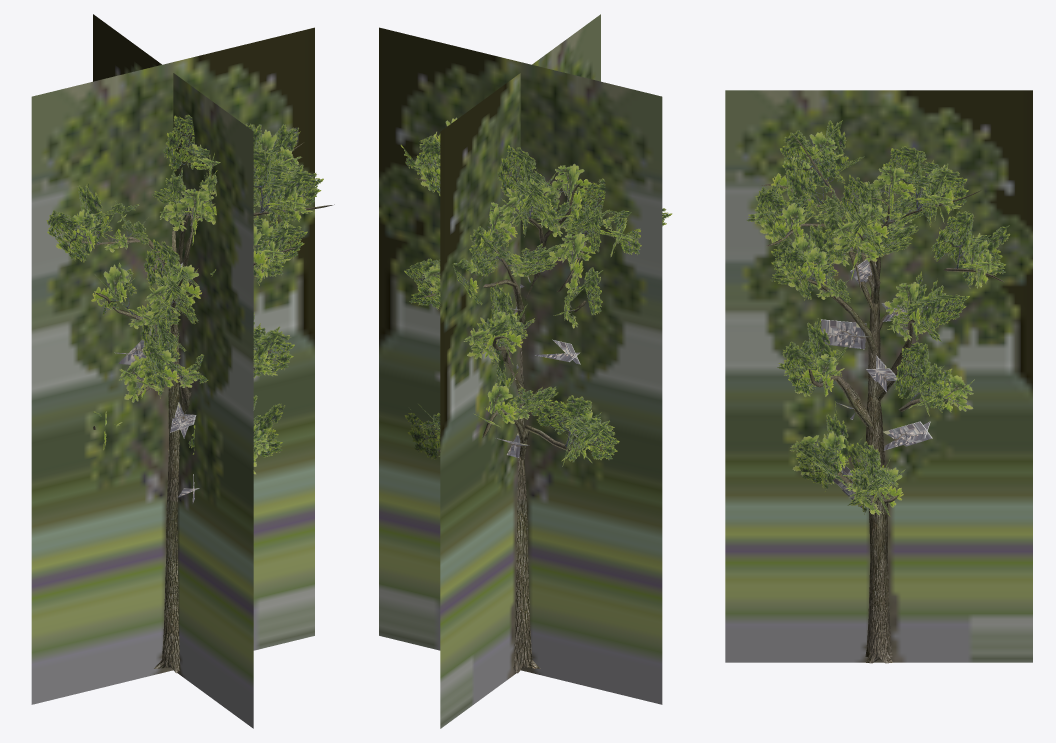
File: Tree-Oak0A.fbx
3 views of the same model, side by side, from view 1: azimuth 30°, elevation 25°; view 2: azimuth 150°, elevation 25°; view 3: azimuth 270°, elevation 25° (orthographic). The views are drawn at different scales.
Parts seen in each view (by area): view 1: Billboard-Oak0A, Tree-Oak0A_LOD0; view 2: Billboard-Oak0A, Tree-Oak0A_LOD0; view 3: Billboard-Oak0A, Tree-Oak0A_LOD0.
Boxes of the visible parts, left/top/right/bottom form: Billboard-Oak0A: left=31, top=14, right=314, bottom=728; Tree-Oak0A_LOD0: left=46, top=114, right=334, bottom=673; Billboard-Oak0A: left=379, top=14, right=662, bottom=728; Tree-Oak0A_LOD0: left=400, top=117, right=672, bottom=673; Billboard-Oak0A: left=725, top=90, right=1032, bottom=662; Tree-Oak0A_LOD0: left=746, top=120, right=1010, bottom=663.
Size of what is drawn, in the model's own units: 1446 by 2800 by 1379.
